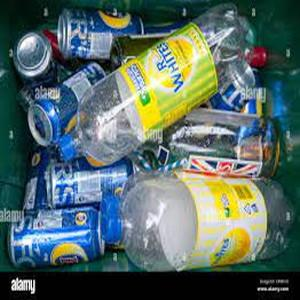Plastic: (58, 8, 247, 164), (102, 171, 294, 271)
